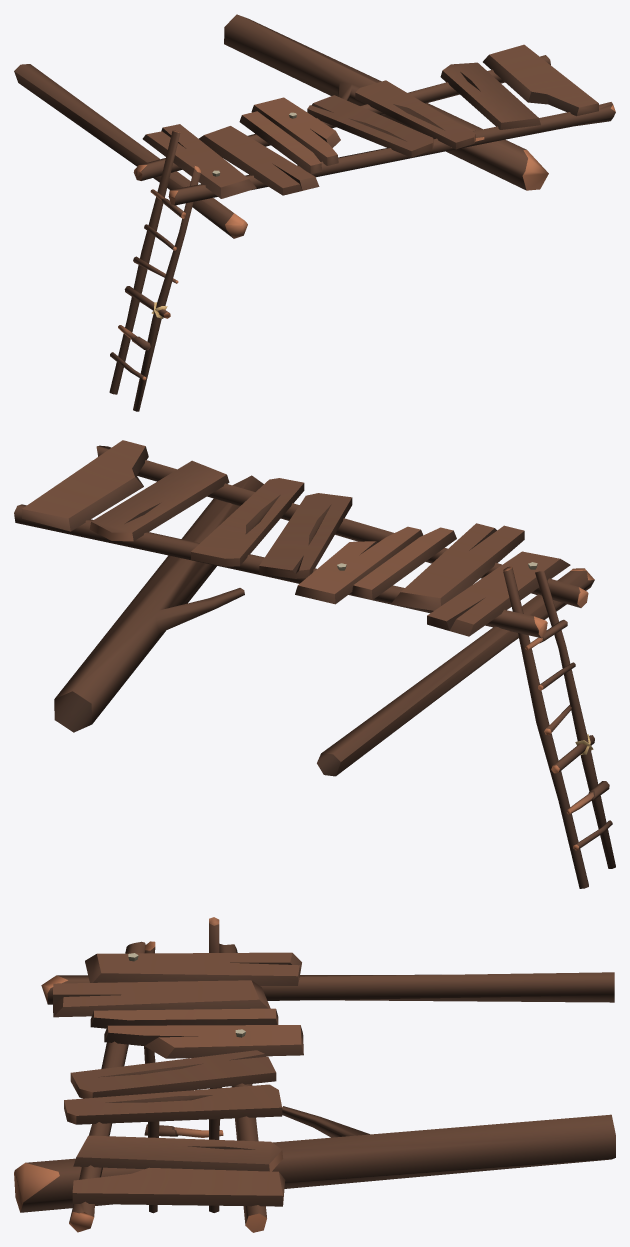
Rendered from Suspended_Ramp_1C_Ascending.fbx.
3 views of the same model, one above another, from view 1: azimuth 30°, elevation 25°; view 2: azimuth 150°, elevation 25°; view 3: azimuth 270°, elevation 25° (orthographic). The views are drawn at different scales.
Parts seen in each view (by area): view 1: Suspended_Ramp_1C_Ascending; view 2: Suspended_Ramp_1C_Ascending; view 3: Suspended_Ramp_1C_Ascending.
Part boxes in pixels (x1,y1,x2,y2): Suspended_Ramp_1C_Ascending: [14, 14, 615, 411]; Suspended_Ramp_1C_Ascending: [14, 440, 615, 888]; Suspended_Ramp_1C_Ascending: [14, 917, 615, 1232].
Bounding box in the file's own units: 6.47 × 3.4 × 5.56.
